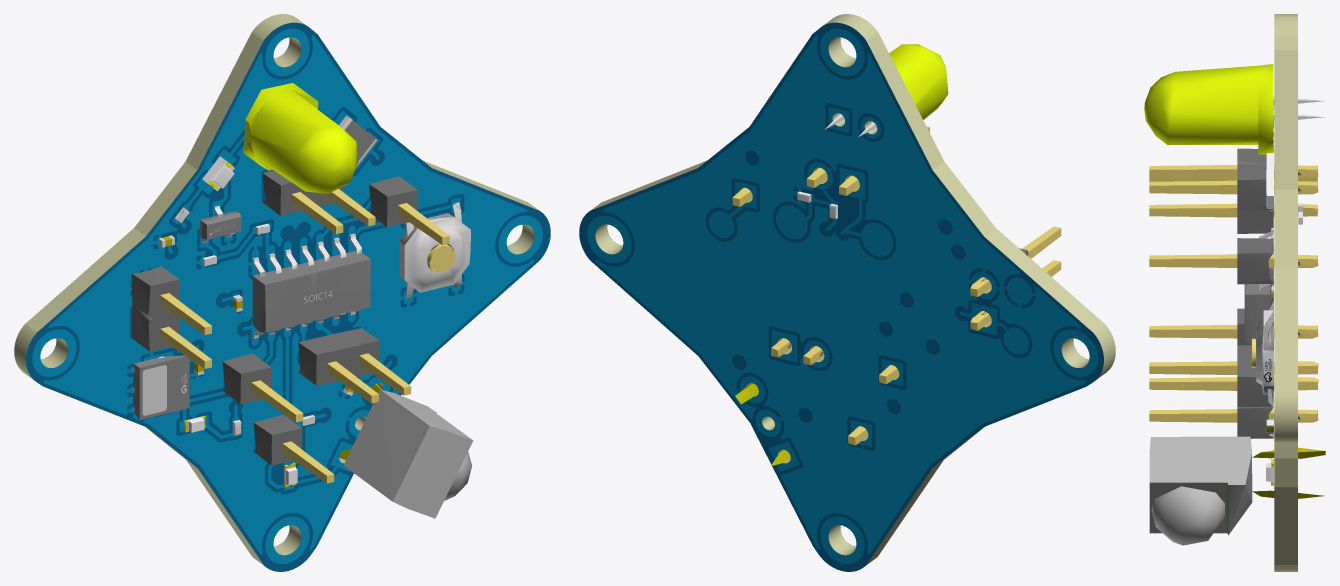
The picture shows the model from 3 angles, left to right: view 1: azimuth 30°, elevation 25°; view 2: azimuth 150°, elevation 25°; view 3: azimuth 270°, elevation 25°; orthographic projection.
Parts seen in each view (by area): view 1: v4; view 2: v4; view 3: v4.
Boxes of the visible parts, box(x1,y1,x2,y2) form: v4: box(14, 14, 550, 571); v4: box(579, 14, 1115, 571); v4: box(1144, 14, 1325, 571).
Bounding box in the file's own units: 41.38 × 41.27 × 12.31.
